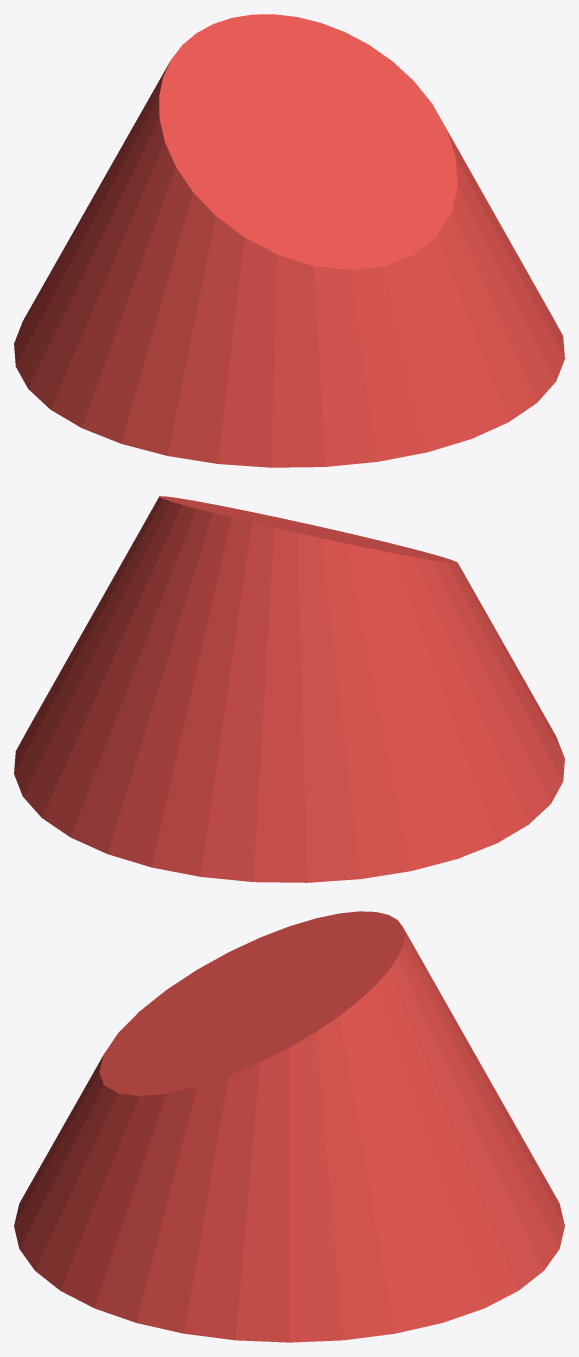
The model's file is 1_cone_elipse.glb.
3 views of the same model, one above another, from view 1: azimuth 30°, elevation 25°; view 2: azimuth 150°, elevation 25°; view 3: azimuth 270°, elevation 25° (orthographic).
Parts seen in each view (by area): view 1: Cone; view 2: Cone; view 3: Cone.
Boxes of the visible parts, box(x1,y1,x2,y2) form: Cone: box(14, 14, 564, 467); Cone: box(14, 496, 564, 882); Cone: box(14, 911, 564, 1342).
Bounding box in the file's own units: 2 × 1.16 × 2.
